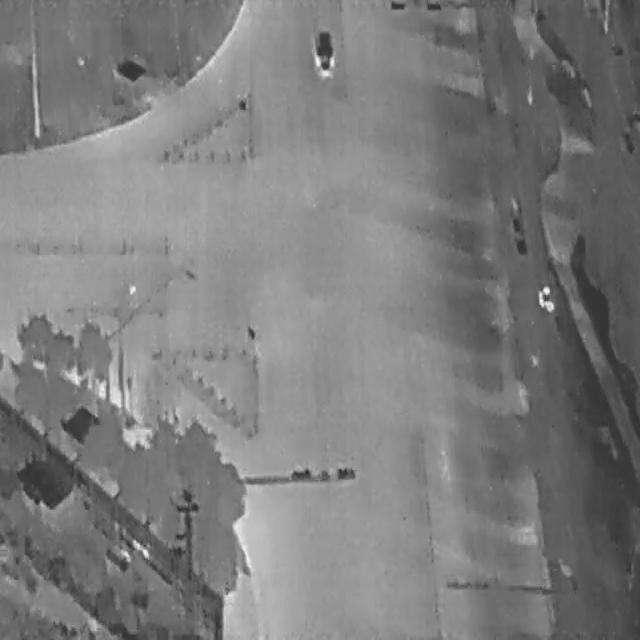Car: (310, 23, 336, 78)
